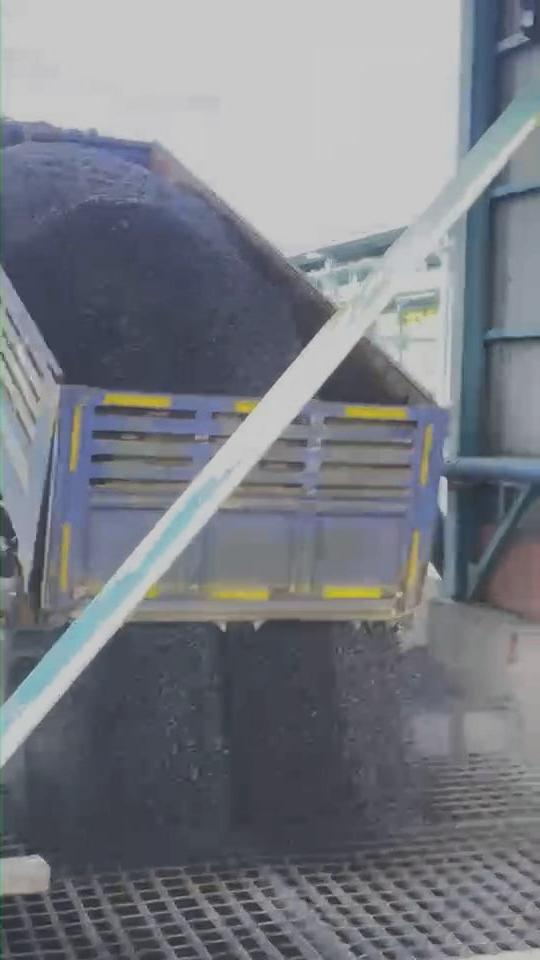gravel: (28, 624, 408, 864), (3, 144, 331, 394), (328, 365, 393, 401)
